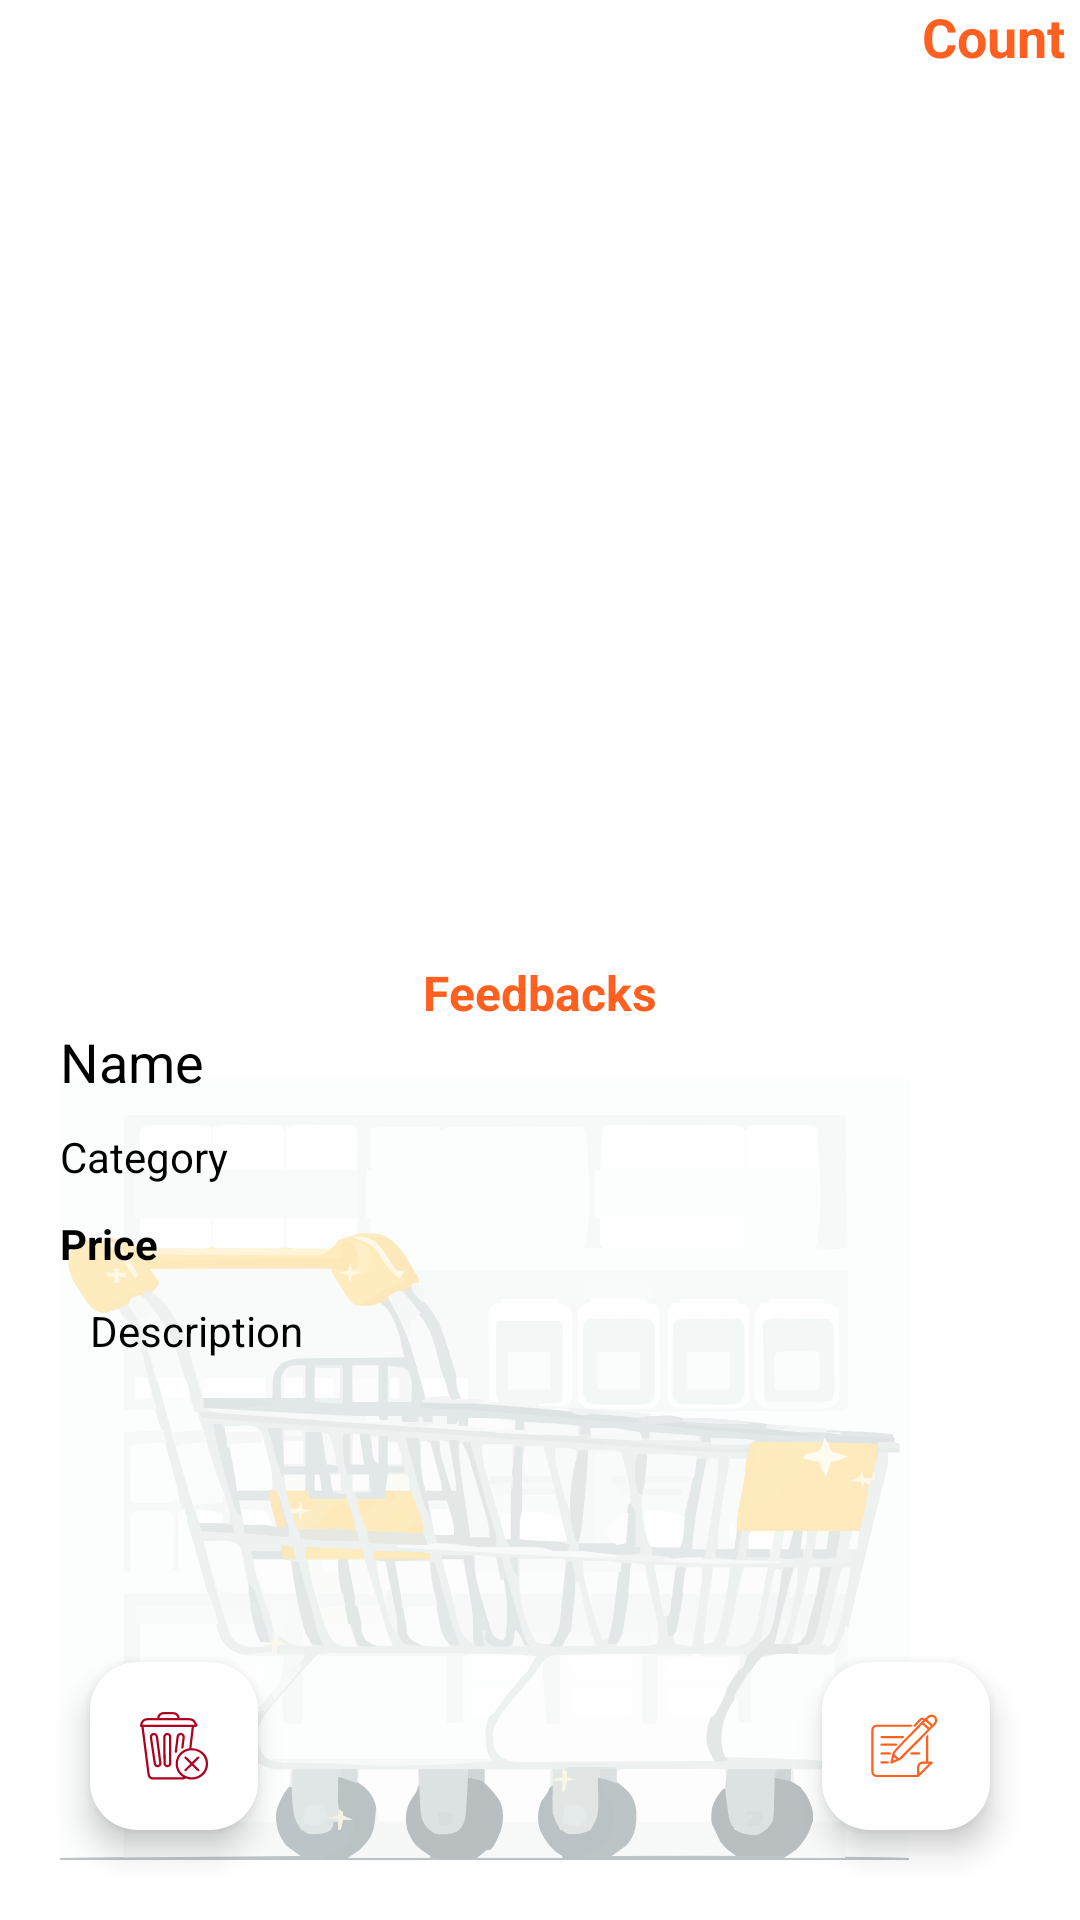

Named icons in this screenshot (1080*1920) and their bounding boxes, bbox=(x1, y1, x2, y2):
delete: bbox=(140, 1712, 254, 1804)
edit: bbox=(826, 1714, 938, 1804)
